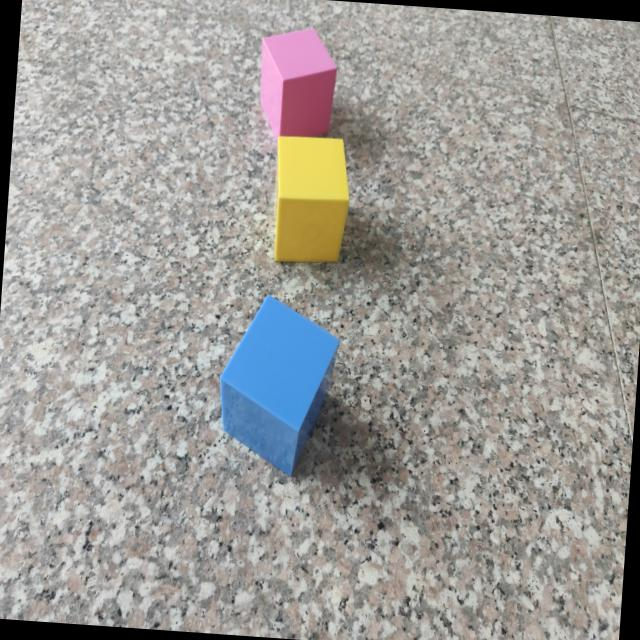blue: (219, 296, 338, 477)
pink: (254, 24, 337, 139)
yellow: (267, 133, 351, 265)
